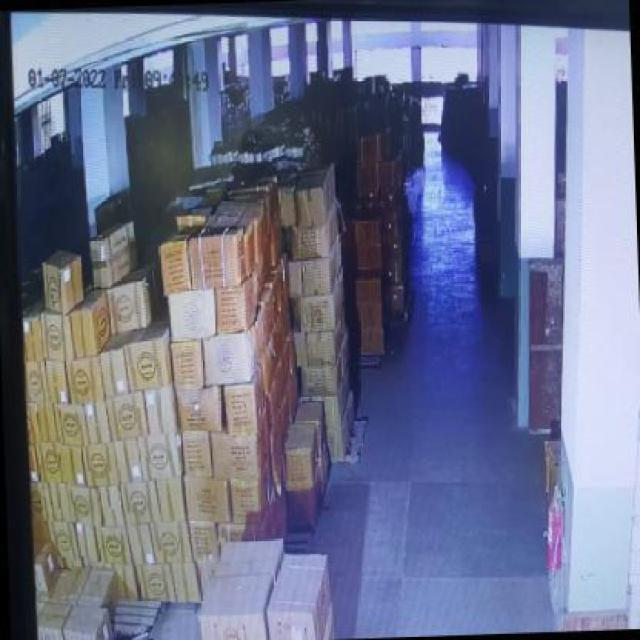fire: (401, 165, 427, 212)
